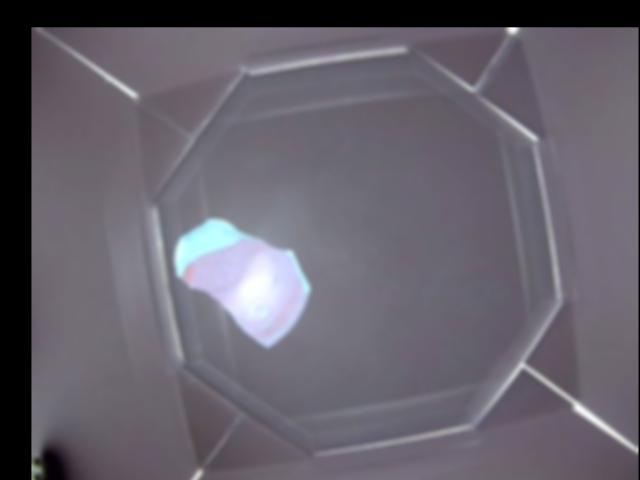China: (173, 215, 307, 348)
